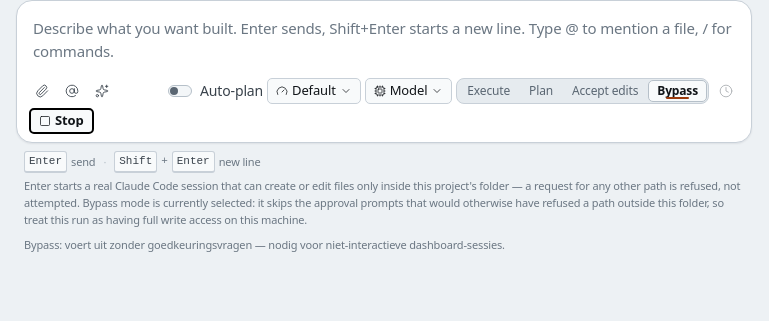
Test case: Composer message queue (feat-composer-power) › queues instead of sending while a run is active, and shows it in a visible waiting list
Replace the text in the text box named "Message Forge" with "Keep working while busy" at (384, 36), box x1=29 y1=9 x2=739 y2=64
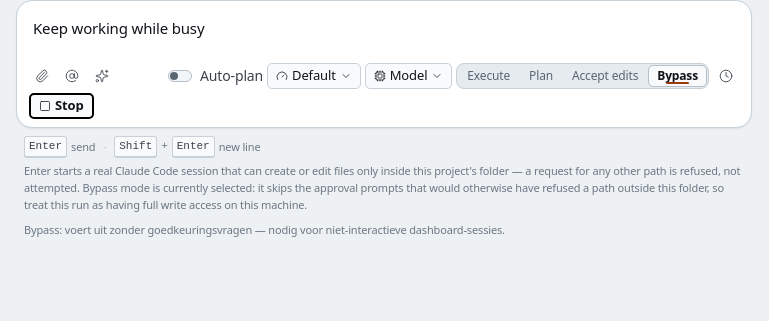
Click the button named "Queue message" at (726, 76), box x1=713 y1=63 x2=739 y2=89
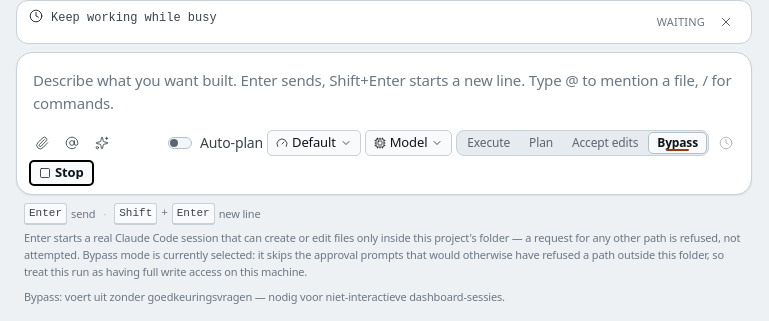
Expected: the text "Keep working while busy" is shown, x1=51 y1=11 x2=217 y2=25
Expected: the text "Waiting" is shown, x1=657 y1=14 x2=705 y2=30
Expected: the text box named "Message Forge" is empty, x1=29 y1=61 x2=739 y2=116
